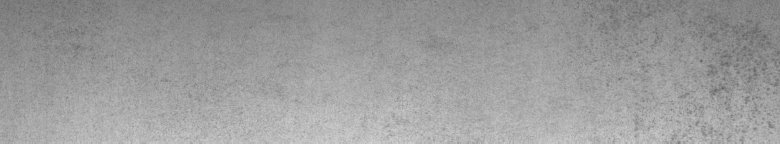ib: (618, 24, 776, 136)
